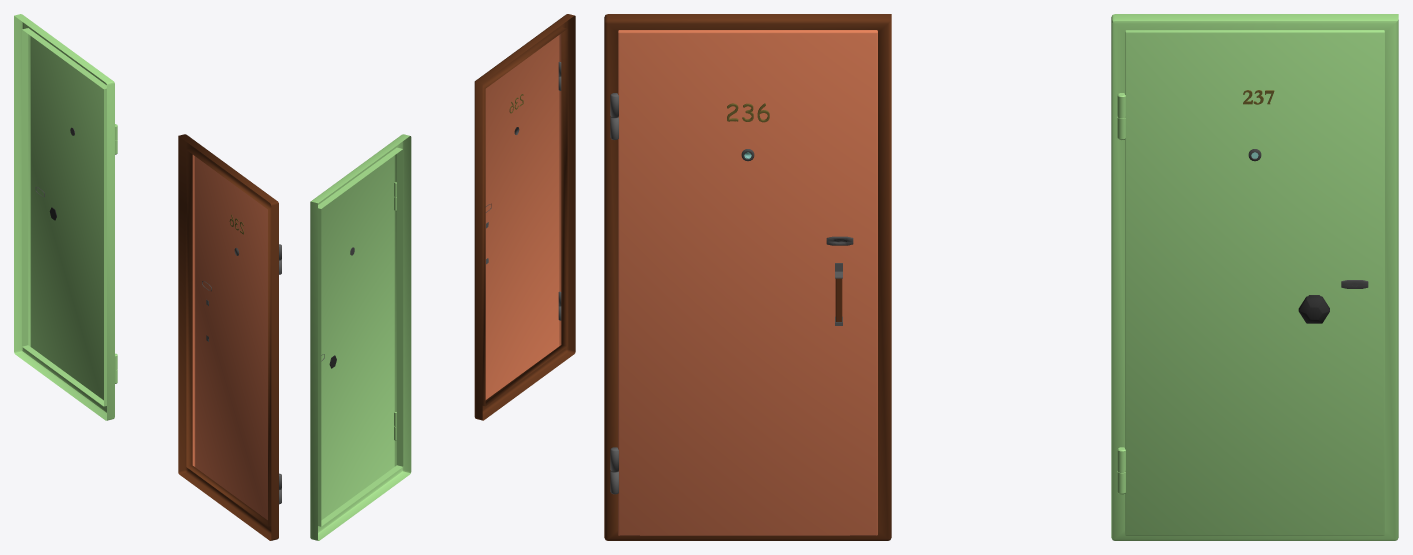
File: doors.fbx
3 renders of one model, left to right at view 1: azimuth 30°, elevation 25°; view 2: azimuth 150°, elevation 25°; view 3: azimuth 270°, elevation 25°, orthographic. The views are drawn at different scales.
Parts seen in each view (by area): view 1: Text.001, Plane.001; view 2: Plane.001, Text.001; view 3: Plane.001, Text.001.
Boxes of the visible parts, box(x1,y1,x2,y2) form: Text.001: box(178, 134, 281, 540); Plane.001: box(14, 14, 117, 420); Plane.001: box(310, 134, 411, 540); Text.001: box(474, 14, 575, 420); Plane.001: box(1111, 14, 1398, 540); Text.001: box(604, 14, 891, 540).
Size of the model in its own units: 32.63 by 401 by 553.
